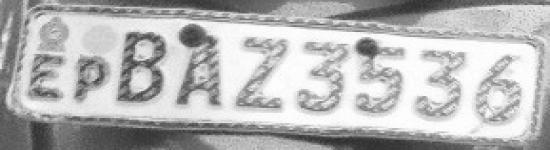3: (294, 31, 355, 117), (413, 43, 474, 126)
5: (353, 36, 413, 121)
6: (471, 46, 530, 128)
A: (173, 26, 228, 112)
B: (114, 24, 172, 110)
E: (26, 51, 69, 102)
P: (69, 52, 113, 108)
Z: (229, 30, 296, 118)
